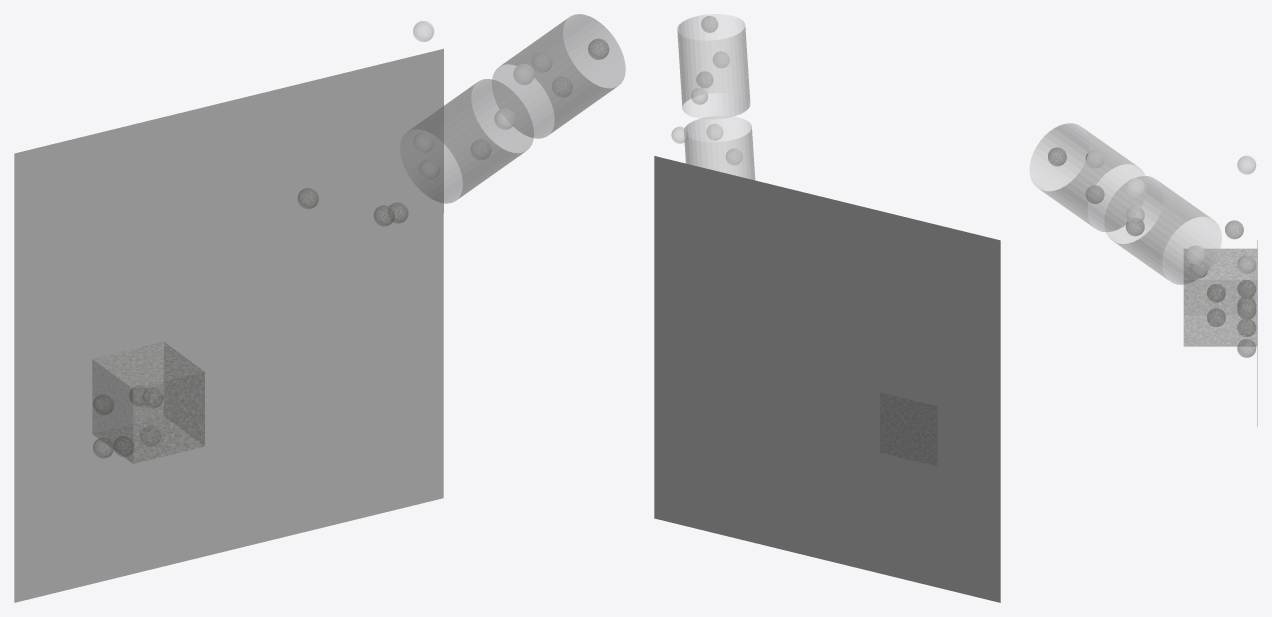
Rendered from app9.fbx.
3 views of the same model, side by side, from view 1: azimuth 30°, elevation 25°; view 2: azimuth 150°, elevation 25°; view 3: azimuth 270°, elevation 25° (orthographic). The views are drawn at different scales.
Parts seen in each view (by area): view 1: Plane, Cube, Tube, Tube_1; view 2: Plane, Tube, Tube_1, Cube; view 3: Tube, Tube_1, Cube.
Boxes of the visible parts, x1,y1,x2,y2 form: Plane: [14, 48, 443, 602]; Cube: [92, 342, 204, 463]; Tube: [492, 14, 625, 138]; Tube_1: [400, 79, 533, 203]; Plane: [654, 156, 1000, 602]; Tube: [677, 14, 750, 119]; Tube_1: [684, 116, 755, 180]; Cube: [880, 392, 937, 466]; Tube: [1029, 123, 1146, 231]; Tube_1: [1104, 176, 1221, 284]; Cube: [1183, 248, 1257, 346].
Bounding box in the file's own units: 281 × 292 × 123.
